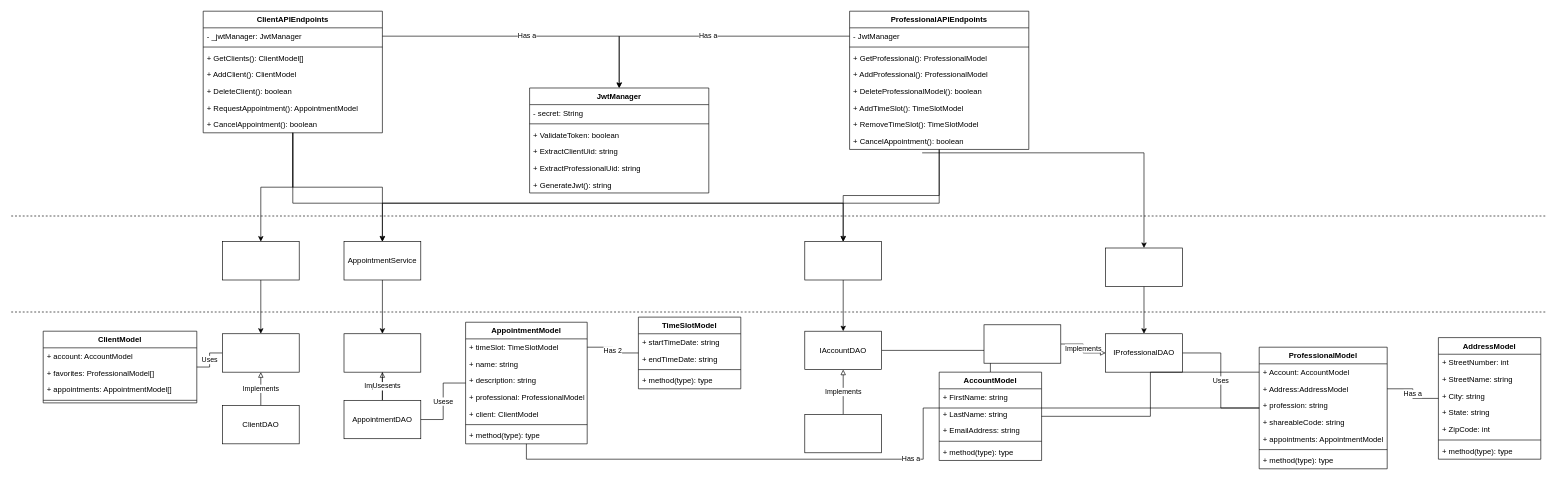
The diagram is 1559 pixels wide and 482 high, and some of its shapes have lost their labels. Each missing label, with the centre of its shape:
AccountDAO: [843,433]
AccountService: [843,260]
ClientService: [260,260]
IAppointmentDAO: [382,352]
IClientDAO: [260,352]
ProfessionalDAO: [1022,343]
ProfessionalService: [1143,266]
